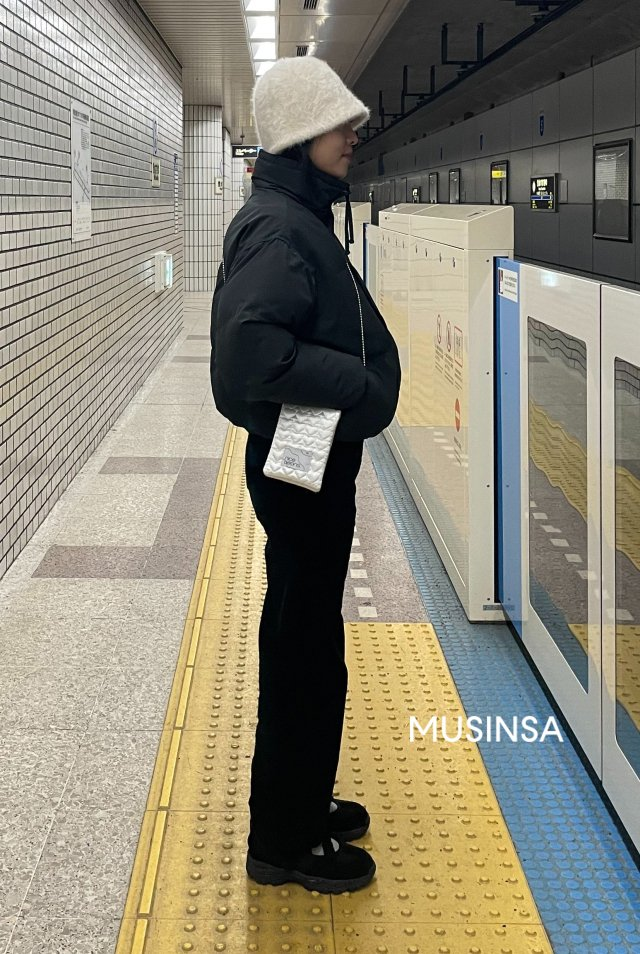Bag: (260, 400, 340, 496)
Bubble jacket: (207, 149, 408, 442)
Buckethat: (246, 54, 375, 147)
Pants: (242, 430, 344, 851)
Shoes: (258, 796, 396, 898)
